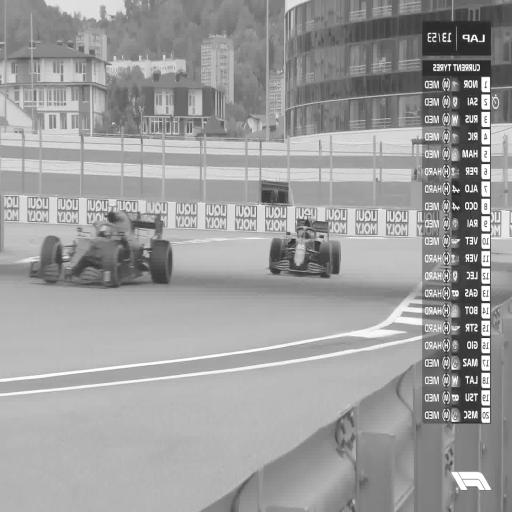f1_car: (30, 208, 173, 286), (269, 219, 341, 276)
